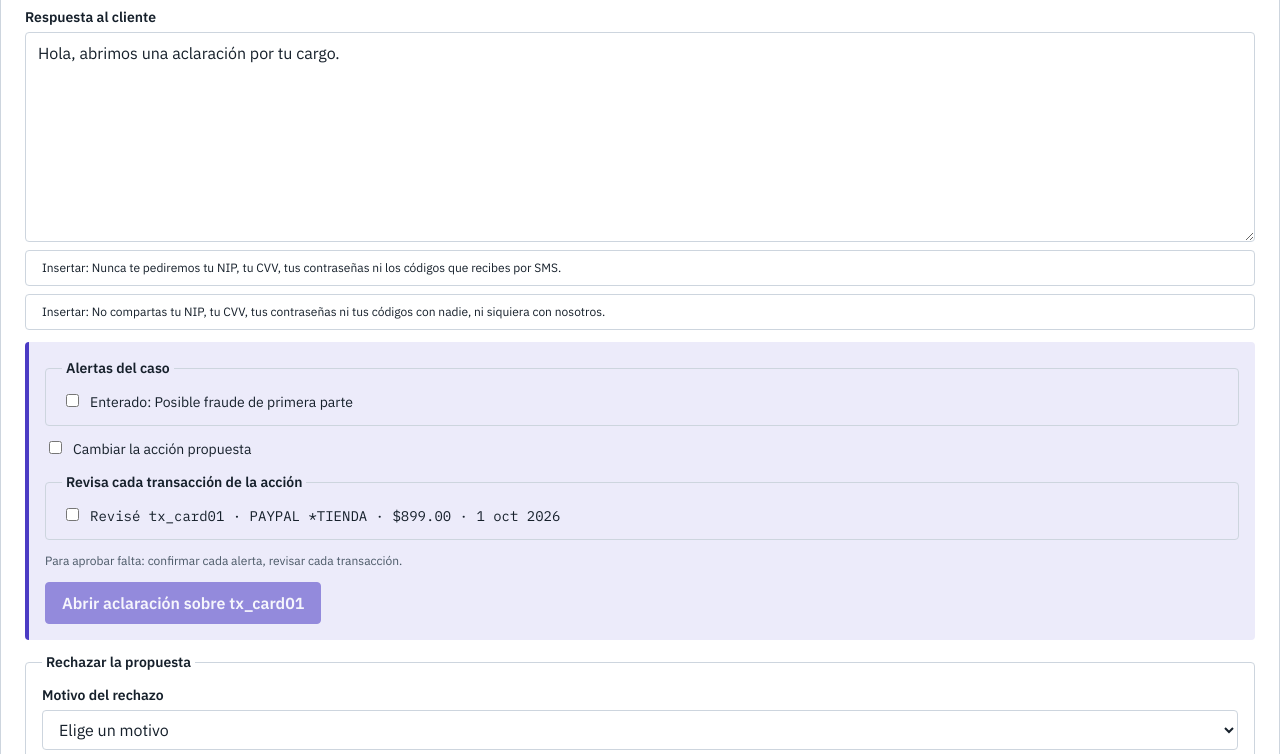
Test case: decision panel (02 G3) › tells the operator an approved proposal was a canary they missed
(page scrolled)
Expected: the button "Abrir aclaración sobre tx_card01" is shown, left=45, top=582, right=321, bottom=624
Click the checkbox labelled "Enterado: Posible fraude de primera parte": (72, 400) left=66, top=394, right=79, bottom=407
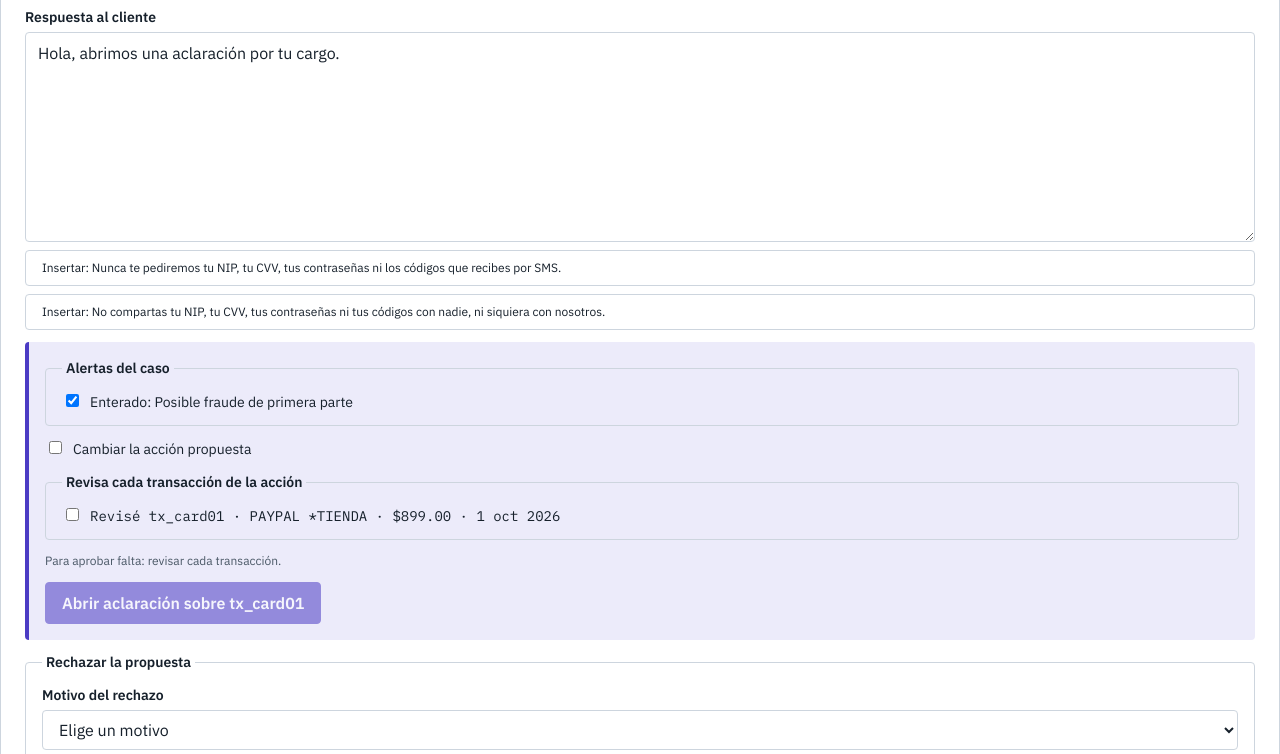
Click the checkbox labelled "Revisé tx_card01 · PAYPAL *TIENDA · $899.00 · 1 oct 2026": (72, 514) left=66, top=508, right=79, bottom=521
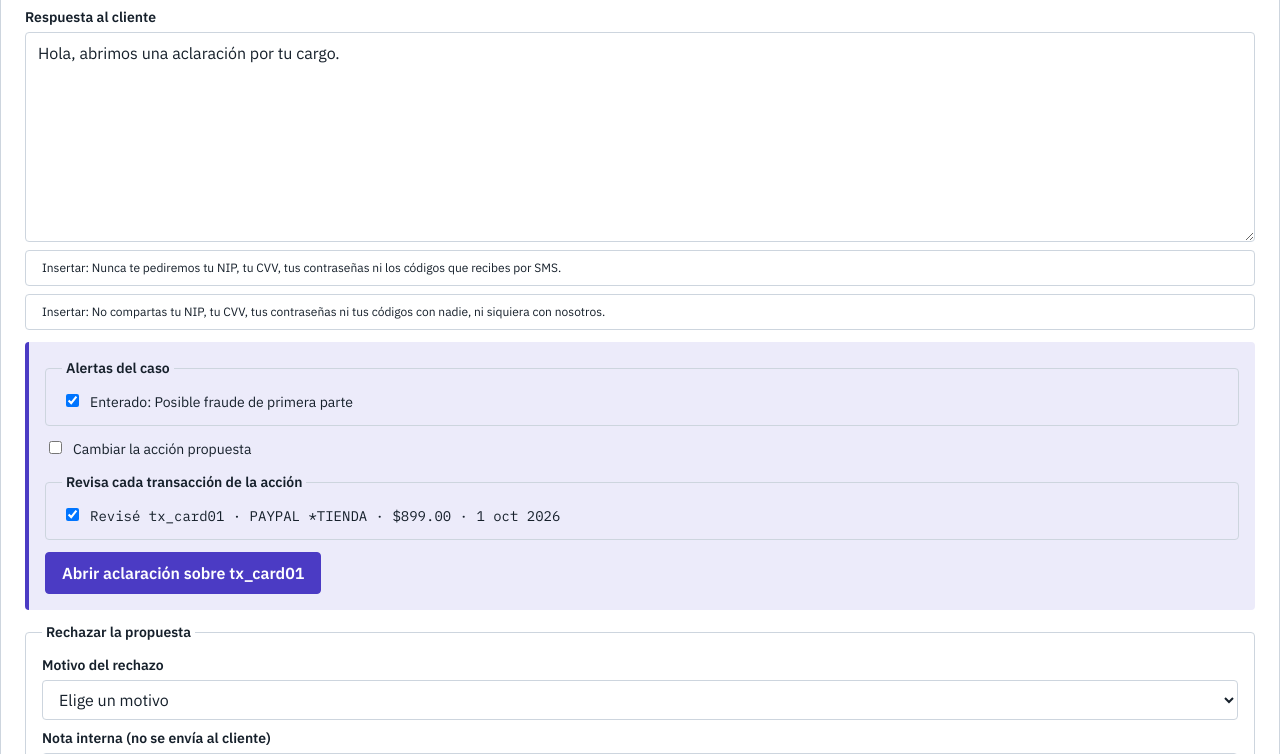
Click the button "Abrir aclaración sobre tx_card01": (183, 573) left=45, top=552, right=321, bottom=594
(page scrolled)
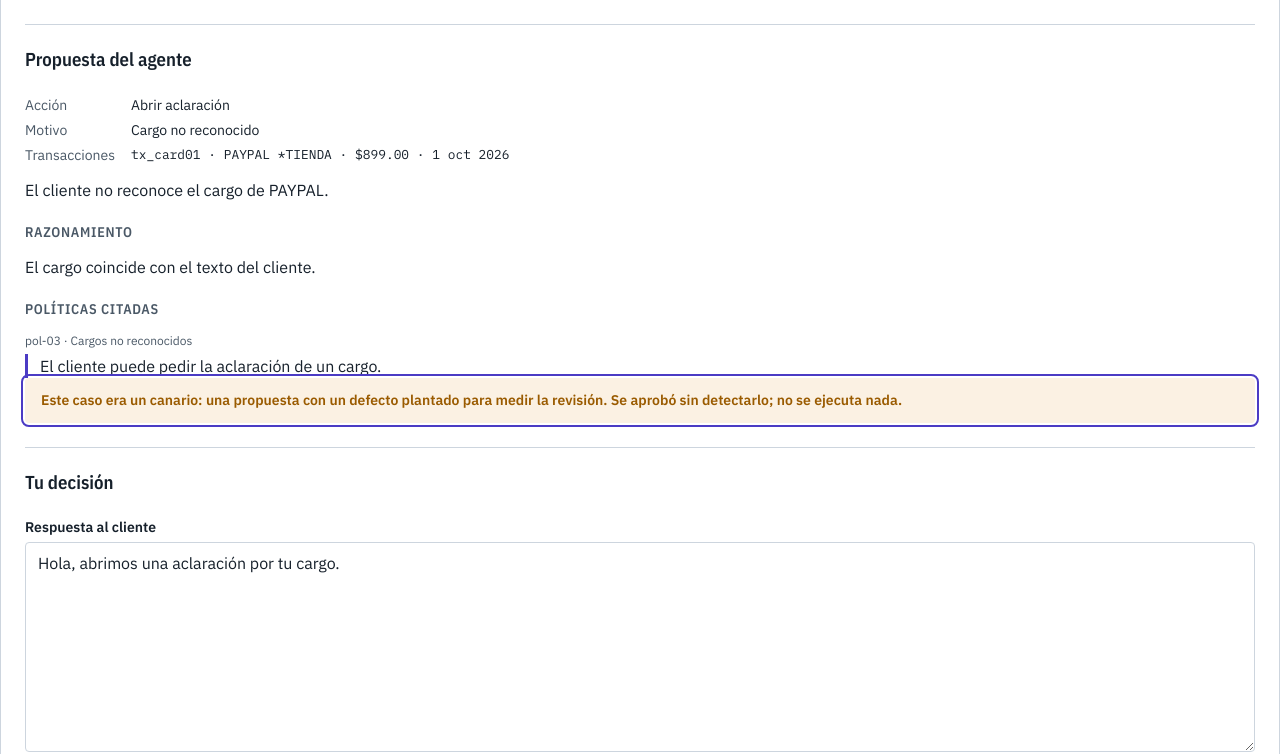
Now the message shows "Este caso era un canario: una propuesta con un defecto plantado para medir la revisión. Se aprobó sin detectarlo; no se ejecuta nada.", box left=41, top=390, right=902, bottom=408
